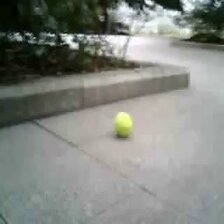tennis: (114, 111, 133, 135)
